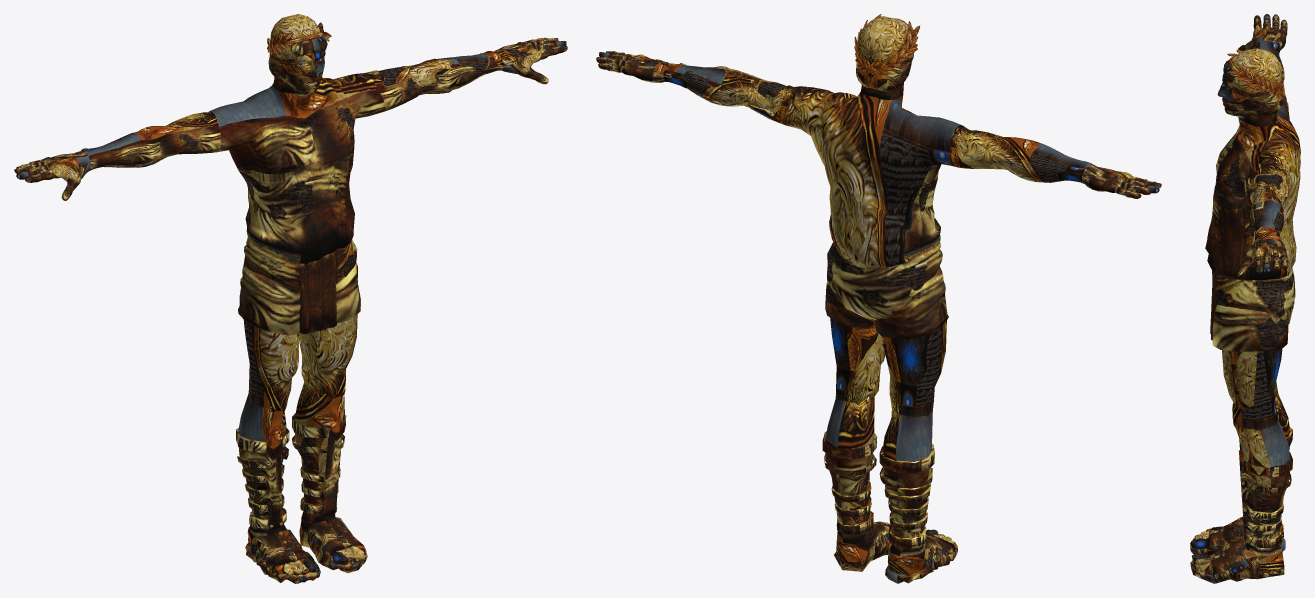
The model's file is Colosos.obj.
The picture shows the model from 3 angles, left to right: view 1: azimuth 30°, elevation 25°; view 2: azimuth 150°, elevation 25°; view 3: azimuth 270°, elevation 25°; orthographic projection. The views are drawn at different scales.
Visible parts, largest first — view 1: p0_lod0_o0_i0.006_p0_lod0_o0_i0.000_p0_lod0_o0_i0.006_p0_lod0_o0, p0_lod0_o0_i0.000_p0_lod0_o0_i0.000mesh, p0_lod0_o0_i0.000_p0_lod0_o0_i0.000_p0_lod0_o0_i0.000_p0_lod0_o0, p0_lod0_o0_i0.013_p0_lod0_o0_i0.000_p0_lod0_o0_i0.013_p0_lod0_o0, p0_lod0_o0_i0.028_p0_lod0_o0_i0.000_p0_lod0_o0_i0.028_p0_lod0_o0, p0_lod0_o0_i0.008_p0_lod0_o0_i0.000_p0_lod0_o0_i0.008_p0_lod0_o0, p0_lod0_o0_i0.025_p0_lod0_o0_i0.000_p0_lod0_o0_i0.025_p0_lod0_o0, p0_lod0_o0_i0.015_p0_lod0_o0_i0.000_p0_lod0_o0_i0.015_p0_lod0_o0, p02g00o03g._0p.000_p02g00o03g._0p.000mesh, p02g00o05g._0p.000_p02g00o05g._0p.000mesh, p0_lod0_o0_i0.011_p0_lod0_o0_i0.000_p0_lod0_o0_i0.011_p0_lod0_o0, p0_lod0_o0_i0.007_p0_lod0_o0_i0.000_p0_lod0_o0_i0.007_p0_lod0_o0; view 2: p0_lod0_o0_i0.006_p0_lod0_o0_i0.000_p0_lod0_o0_i0.006_p0_lod0_o0, p0_lod0_o0_i0.000_p0_lod0_o0_i0.000mesh, p0_lod0_o0_i0.000_p0_lod0_o0_i0.000_p0_lod0_o0_i0.000_p0_lod0_o0, p0_lod0_o0_i0.013_p0_lod0_o0_i0.000_p0_lod0_o0_i0.013_p0_lod0_o0, p0_lod0_o0_i0.025_p0_lod0_o0_i0.000_p0_lod0_o0_i0.025_p0_lod0_o0, p0_lod0_o0_i0.028_p0_lod0_o0_i0.000_p0_lod0_o0_i0.028_p0_lod0_o0, p02g00o03g._0p.000_p02g00o03g._0p.000mesh, p0_lod0_o0_i0.008_p0_lod0_o0_i0.000_p0_lod0_o0_i0.008_p0_lod0_o0, p0_lod0_o0_i0.015_p0_lod0_o0_i0.000_p0_lod0_o0_i0.015_p0_lod0_o0, p0_lod0_o0_i0.007_p0_lod0_o0_i0.000_p0_lod0_o0_i0.007_p0_lod0_o0, p02g00o05g._0p.000_p02g00o05g._0p.000mesh; view 3: p0_lod0_o0_i0.006_p0_lod0_o0_i0.000_p0_lod0_o0_i0.006_p0_lod0_o0, p0_lod0_o0_i0.000_p0_lod0_o0_i0.000_p0_lod0_o0_i0.000_p0_lod0_o0, p0_lod0_o0_i0.000_p0_lod0_o0_i0.000mesh, p0_lod0_o0_i0.008_p0_lod0_o0_i0.000_p0_lod0_o0_i0.008_p0_lod0_o0, p0_lod0_o0_i0.028_p0_lod0_o0_i0.000_p0_lod0_o0_i0.028_p0_lod0_o0, p0_lod0_o0_i0.007_p0_lod0_o0_i0.000_p0_lod0_o0_i0.007_p0_lod0_o0, p0_lod0_o0_i0.013_p0_lod0_o0_i0.000_p0_lod0_o0_i0.013_p0_lod0_o0, p0_lod0_o0_i0.025_p0_lod0_o0_i0.000_p0_lod0_o0_i0.025_p0_lod0_o0, p0_lod0_o0_i0.015_p0_lod0_o0_i0.000_p0_lod0_o0_i0.015_p0_lod0_o0, p02g00o03g._0p.000_p02g00o03g._0p.000mesh, p02g00o05g._0p.000_p02g00o05g._0p.000mesh.
Part boxes in pixels (<box>): p0_lod0_o0_i0.006_p0_lod0_o0_i0.000_p0_lod0_o0_i0.006_p0_lod0_o0: <box>204,73,385,263</box>; p0_lod0_o0_i0.000_p0_lod0_o0_i0.000mesh: <box>238,320,349,536</box>; p0_lod0_o0_i0.000_p0_lod0_o0_i0.000_p0_lod0_o0_i0.000_p0_lod0_o0: <box>238,14,492,335</box>; p0_lod0_o0_i0.013_p0_lod0_o0_i0.000_p0_lod0_o0_i0.013_p0_lod0_o0: <box>81,53,503,170</box>; p0_lod0_o0_i0.028_p0_lod0_o0_i0.000_p0_lod0_o0_i0.028_p0_lod0_o0: <box>245,517,366,575</box>; p0_lod0_o0_i0.008_p0_lod0_o0_i0.000_p0_lod0_o0_i0.008_p0_lod0_o0: <box>317,45,552,505</box>; p0_lod0_o0_i0.025_p0_lod0_o0_i0.000_p0_lod0_o0_i0.025_p0_lod0_o0: <box>236,413,344,528</box>; p0_lod0_o0_i0.015_p0_lod0_o0_i0.000_p0_lod0_o0_i0.015_p0_lod0_o0: <box>246,529,367,583</box>; p02g00o03g._0p.000_p02g00o03g._0p.000mesh: <box>16,41,566,180</box>; p02g00o05g._0p.000_p02g00o05g._0p.000mesh: <box>14,37,567,200</box>; p0_lod0_o0_i0.011_p0_lod0_o0_i0.000_p0_lod0_o0_i0.011_p0_lod0_o0: <box>285,36,326,92</box>; p0_lod0_o0_i0.007_p0_lod0_o0_i0.000_p0_lod0_o0_i0.007_p0_lod0_o0: <box>268,36,327,96</box>; p0_lod0_o0_i0.006_p0_lod0_o0_i0.000_p0_lod0_o0_i0.006_p0_lod0_o0: <box>783,86,961,266</box>; p0_lod0_o0_i0.000_p0_lod0_o0_i0.000mesh: <box>825,318,946,556</box>; p0_lod0_o0_i0.000_p0_lod0_o0_i0.000_p0_lod0_o0_i0.000_p0_lod0_o0: <box>672,14,948,339</box>; p0_lod0_o0_i0.013_p0_lod0_o0_i0.000_p0_lod0_o0_i0.013_p0_lod0_o0: <box>663,66,1092,183</box>; p0_lod0_o0_i0.025_p0_lod0_o0_i0.000_p0_lod0_o0_i0.025_p0_lod0_o0: <box>822,433,934,547</box>; p0_lod0_o0_i0.028_p0_lod0_o0_i0.000_p0_lod0_o0_i0.028_p0_lod0_o0: <box>836,521,956,582</box>; p02g00o03g._0p.000_p02g00o03g._0p.000mesh: <box>599,52,1159,193</box>; p0_lod0_o0_i0.008_p0_lod0_o0_i0.000_p0_lod0_o0_i0.008_p0_lod0_o0: <box>623,54,826,440</box>; p0_lod0_o0_i0.015_p0_lod0_o0_i0.000_p0_lod0_o0_i0.015_p0_lod0_o0: <box>834,533,957,583</box>; p0_lod0_o0_i0.007_p0_lod0_o0_i0.000_p0_lod0_o0_i0.007_p0_lod0_o0: <box>856,53,913,99</box>; p02g00o05g._0p.000_p02g00o05g._0p.000mesh: <box>596,51,1161,198</box>; p0_lod0_o0_i0.006_p0_lod0_o0_i0.000_p0_lod0_o0_i0.006_p0_lod0_o0: <box>1205,97,1300,279</box>; p0_lod0_o0_i0.000_p0_lod0_o0_i0.000_p0_lod0_o0_i0.000_p0_lod0_o0: <box>1210,48,1295,351</box>; p0_lod0_o0_i0.000_p0_lod0_o0_i0.000mesh: <box>1232,348,1290,555</box>; p0_lod0_o0_i0.008_p0_lod0_o0_i0.000_p0_lod0_o0_i0.008_p0_lod0_o0: <box>1222,174,1287,487</box>; p0_lod0_o0_i0.028_p0_lod0_o0_i0.000_p0_lod0_o0_i0.028_p0_lod0_o0: <box>1190,516,1285,575</box>; p0_lod0_o0_i0.007_p0_lod0_o0_i0.000_p0_lod0_o0_i0.007_p0_lod0_o0: <box>1217,74,1283,126</box>; p0_lod0_o0_i0.013_p0_lod0_o0_i0.000_p0_lod0_o0_i0.013_p0_lod0_o0: <box>1245,40,1288,239</box>; p0_lod0_o0_i0.025_p0_lod0_o0_i0.000_p0_lod0_o0_i0.025_p0_lod0_o0: <box>1242,427,1292,548</box>; p0_lod0_o0_i0.015_p0_lod0_o0_i0.000_p0_lod0_o0_i0.015_p0_lod0_o0: <box>1190,542,1284,583</box>; p02g00o03g._0p.000_p02g00o03g._0p.000mesh: <box>1246,14,1287,272</box>; p02g00o05g._0p.000_p02g00o05g._0p.000mesh: <box>1237,14,1288,276</box>.
Size of the model in its own units: 2.25 by 2.11 by 0.4119.
